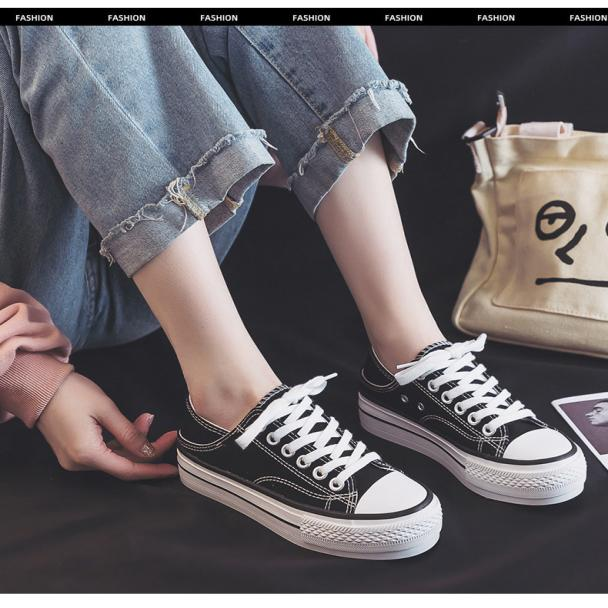Sepatu: (150, 386, 456, 573), (346, 327, 608, 510)
